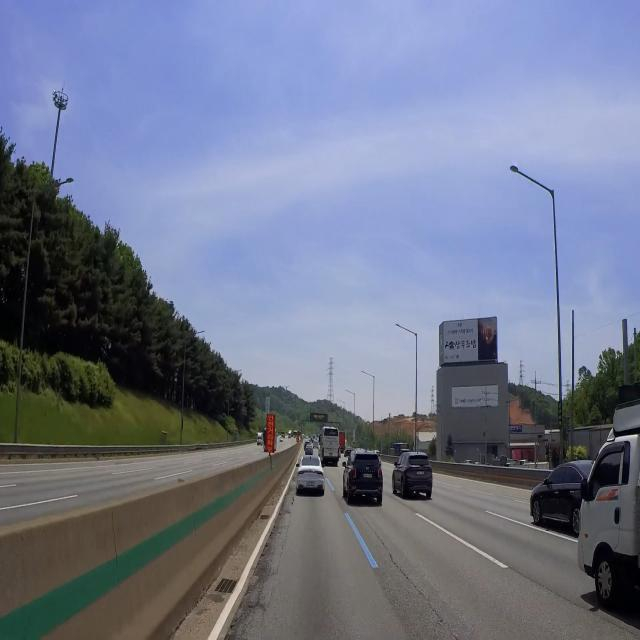car: (411, 466, 429, 483), (303, 475, 319, 494), (361, 469, 375, 486)
